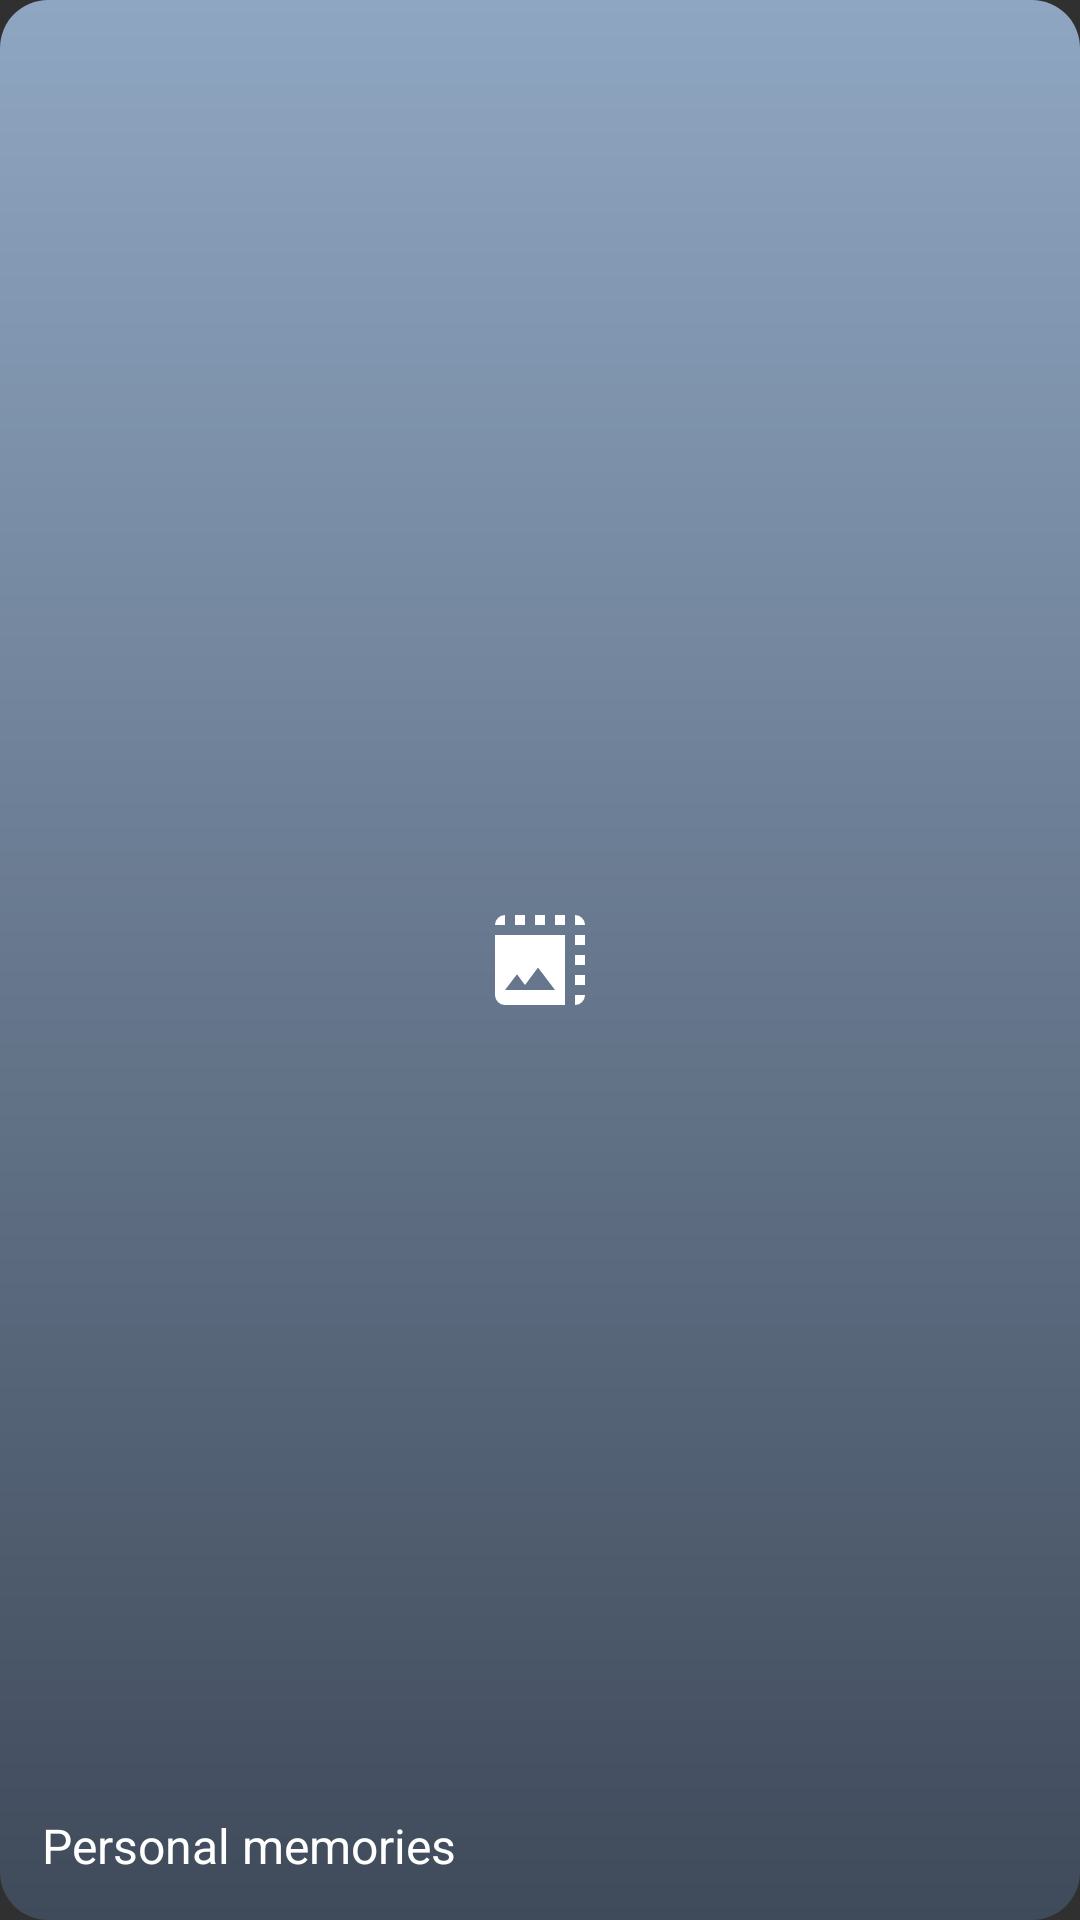

Icon bounding boxes for this 1080x1920 phone screenshot, format bbox=[x1, y1, x2, y2]:
photos: bbox=[495, 915, 585, 1005]
